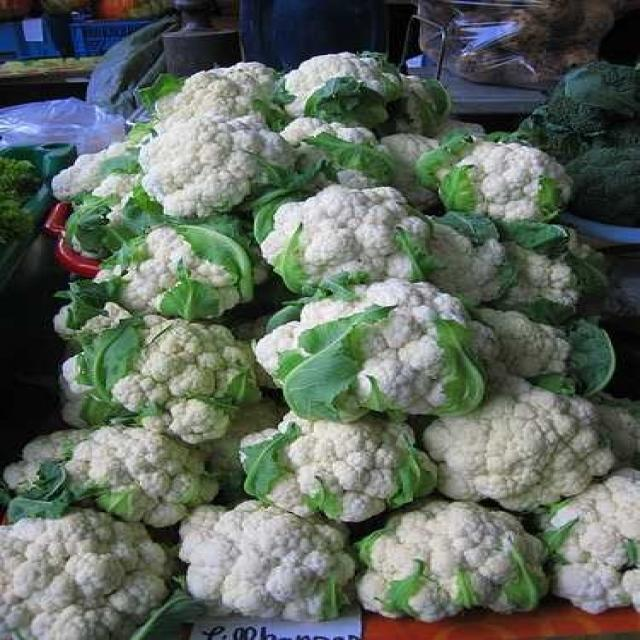cauliflower: (0, 44, 640, 640), (248, 384, 450, 539), (430, 358, 620, 504), (267, 281, 480, 411), (165, 492, 350, 632), (372, 496, 544, 630), (53, 407, 231, 525), (0, 512, 164, 640), (74, 316, 268, 422), (117, 100, 287, 214), (256, 179, 442, 280), (66, 237, 252, 336), (428, 121, 572, 236), (268, 44, 444, 132), (551, 465, 640, 563)
